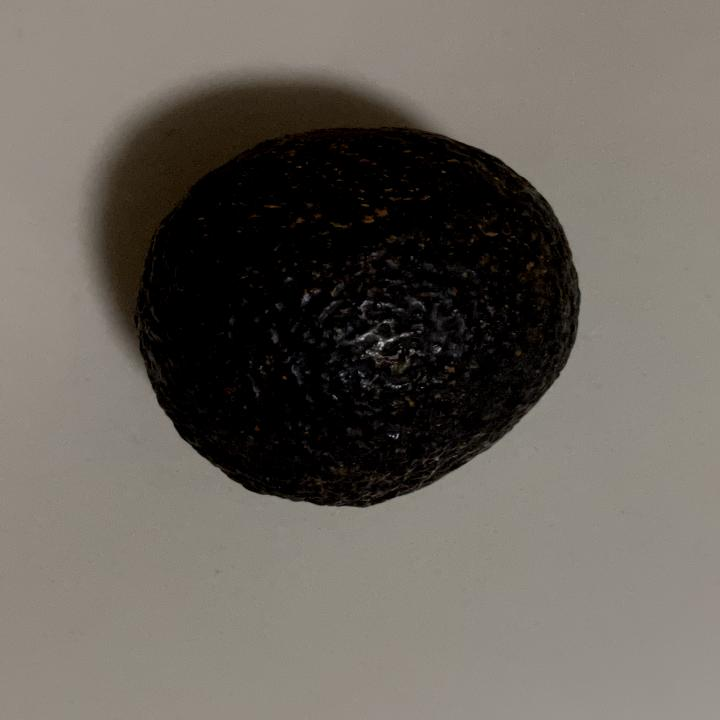Level2: (124, 121, 592, 518)
